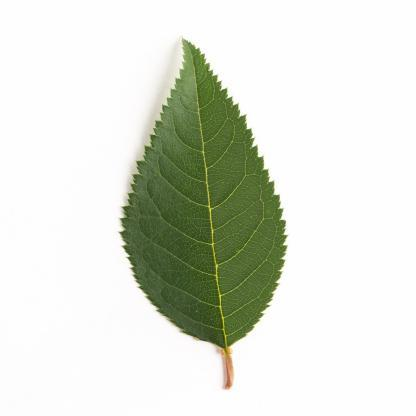Cherry leaf: (116, 34, 296, 348)
